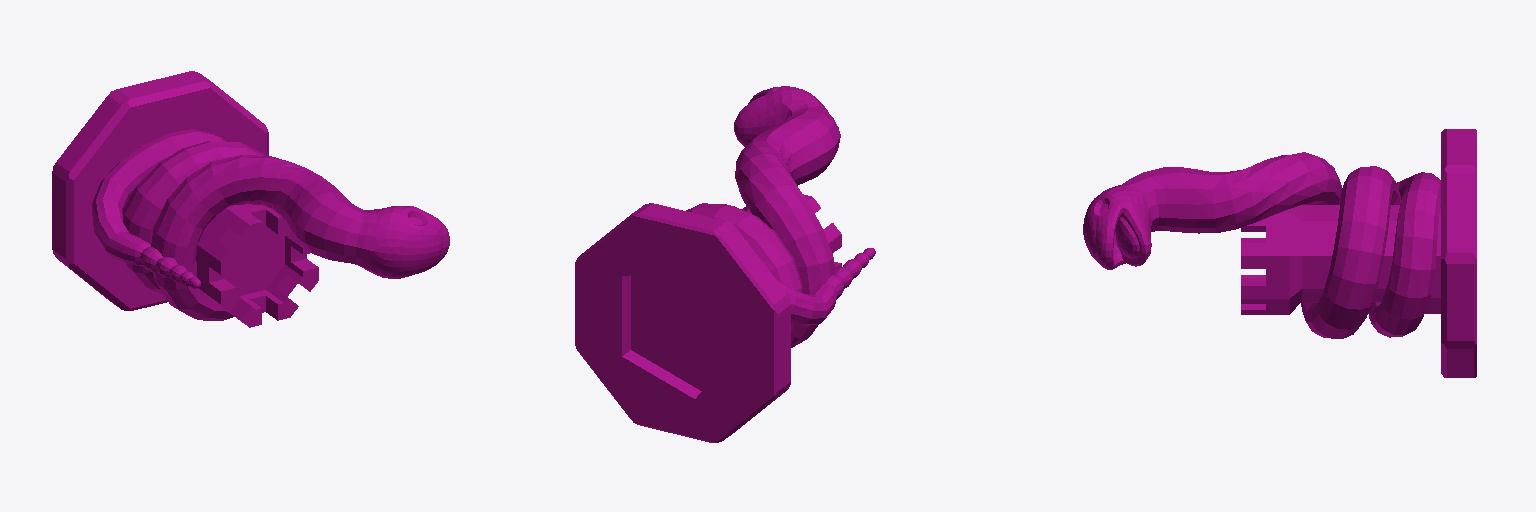
The model's file is Rook_Ekans.obj.
3 views of the same model, side by side, from view 1: azimuth 30°, elevation 25°; view 2: azimuth 150°, elevation 25°; view 3: azimuth 270°, elevation 25° (orthographic).
Parts seen in each view (by area): view 1: Rook_Ekans; view 2: Rook_Ekans; view 3: Rook_Ekans.
Part boxes in pixels (left/top/right/bottom): Rook_Ekans: left=52, top=71, right=449, bottom=327; Rook_Ekans: left=575, top=86, right=875, bottom=442; Rook_Ekans: left=1083, top=129, right=1476, bottom=377.
Size of the model in its own units: 40.83 by 38.8 by 65.24.